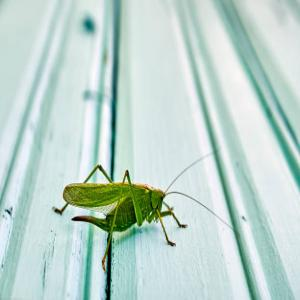locust: (53, 130, 225, 254)
